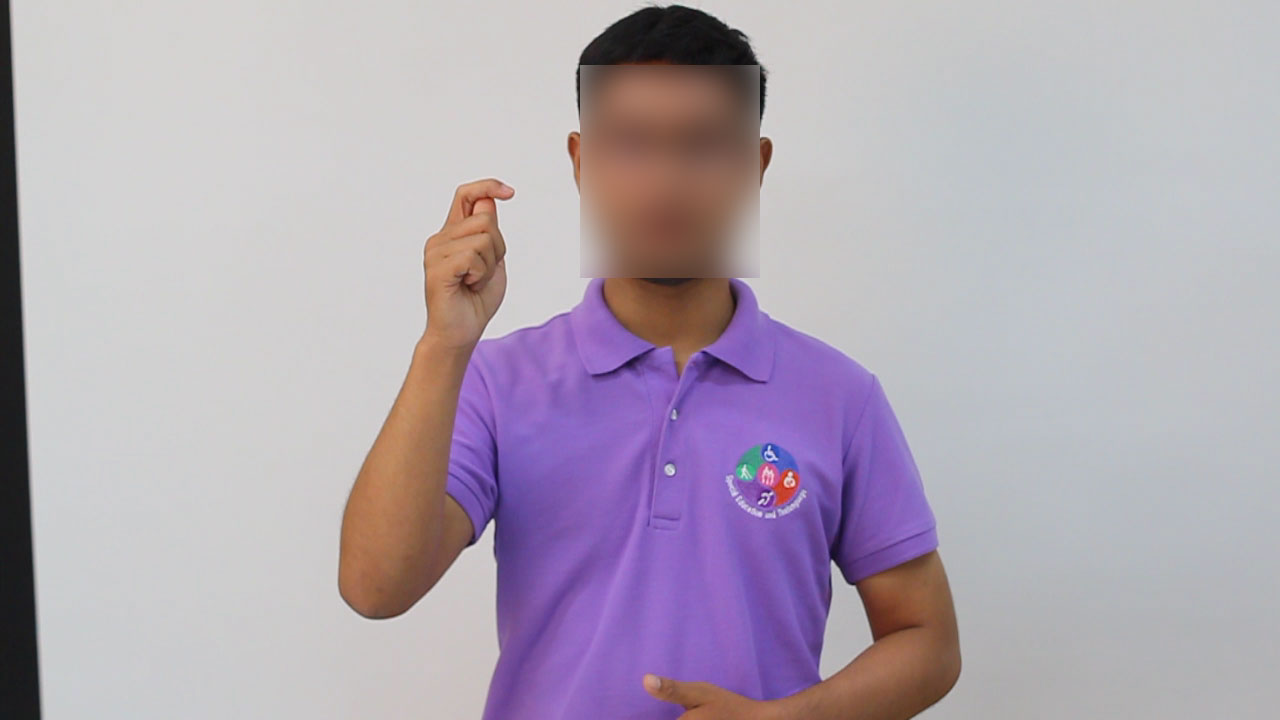or: (420, 169, 520, 372)
